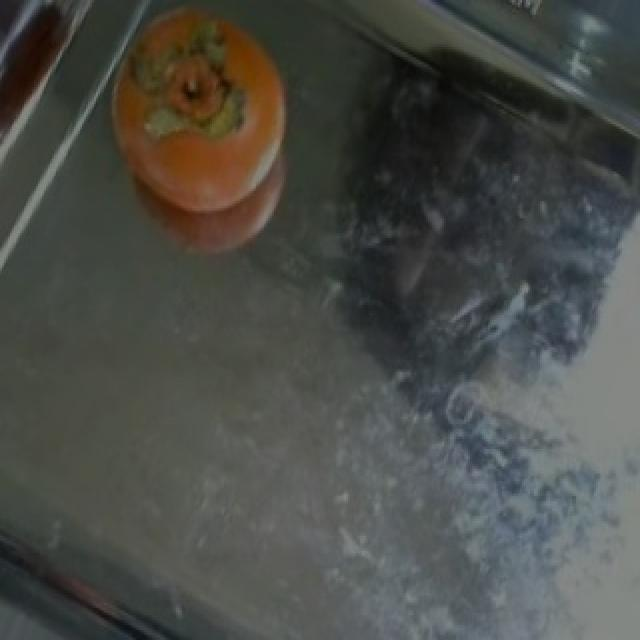Fruit: (80, 5, 322, 280)
